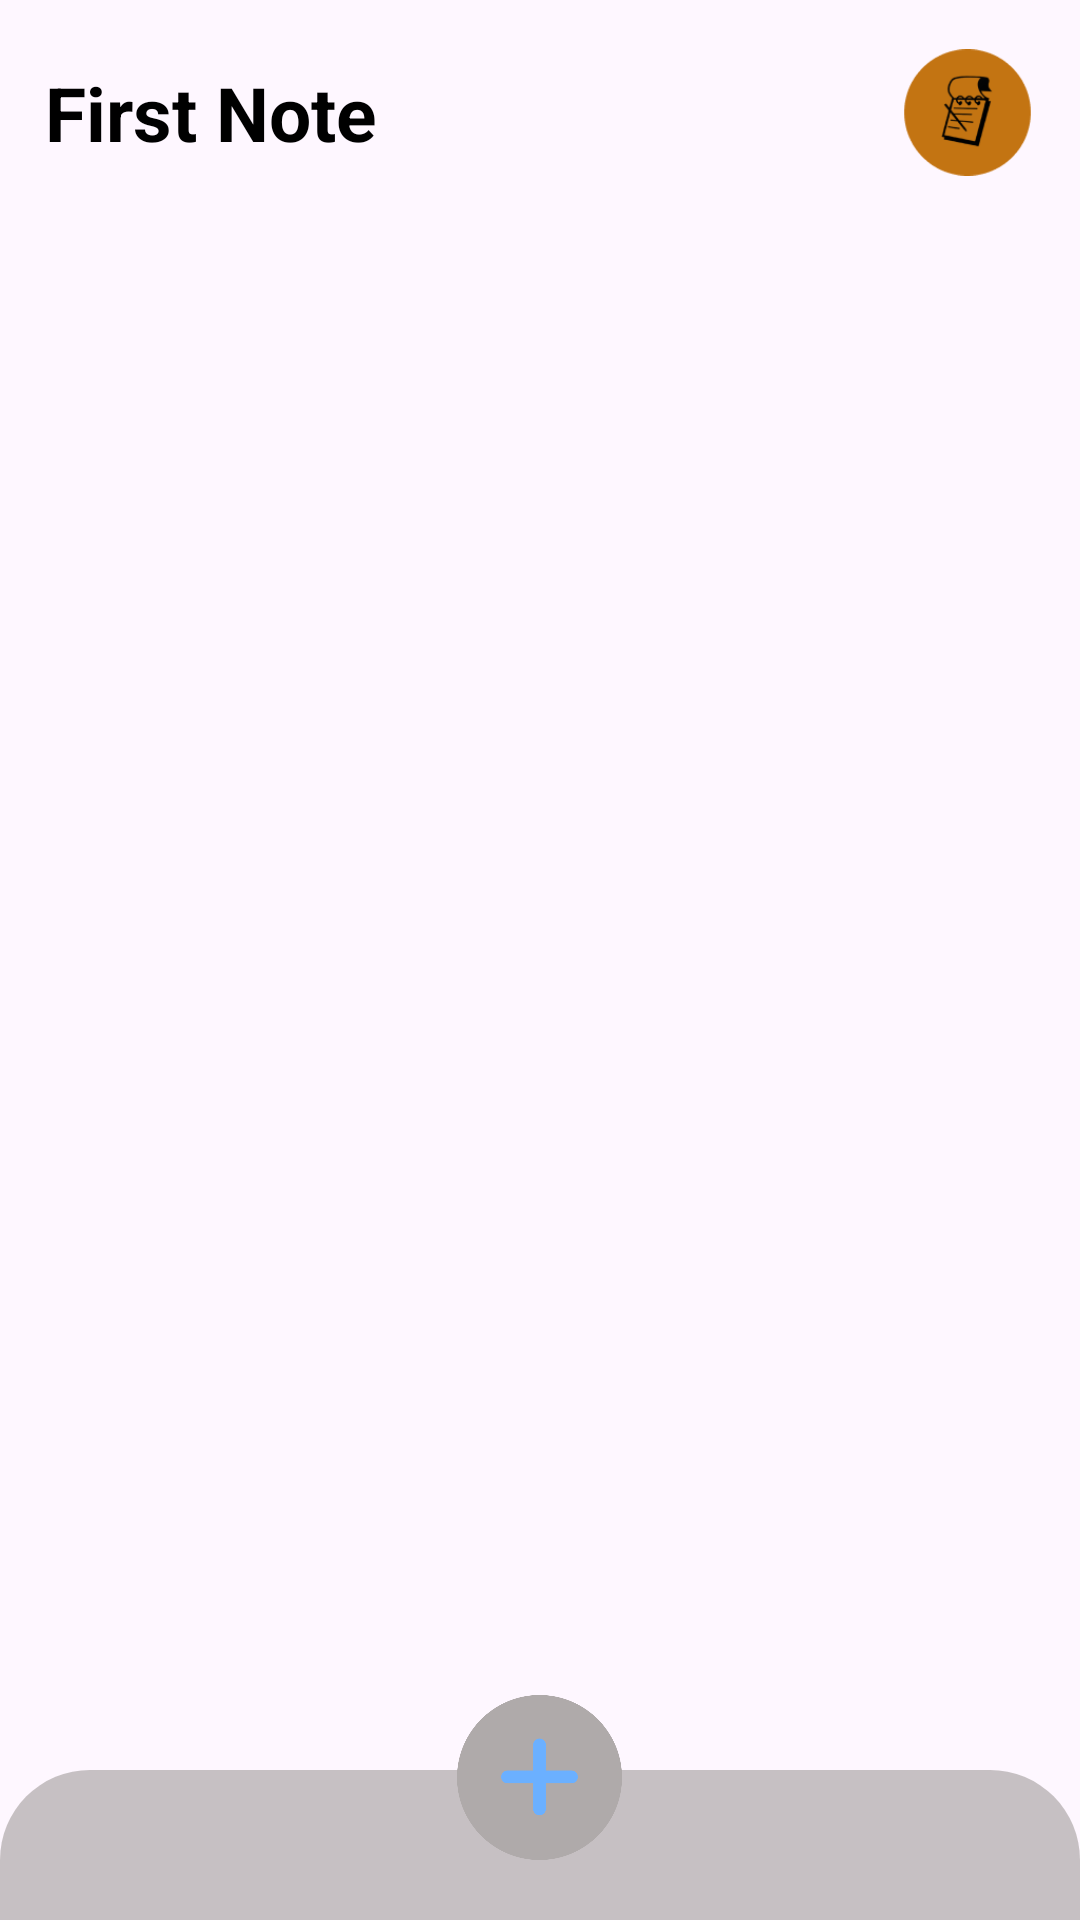

Named icons in this screenshot (1080 x 1920) and their centers, (x,y):
add: (539,1777)
